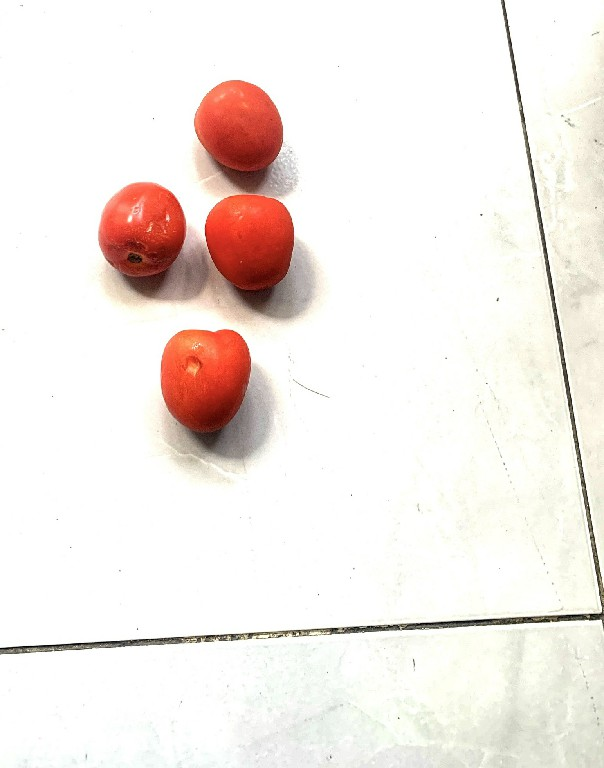NG: (157, 327, 268, 431), (91, 173, 189, 285)
OK: (201, 194, 304, 291), (194, 73, 288, 179)
